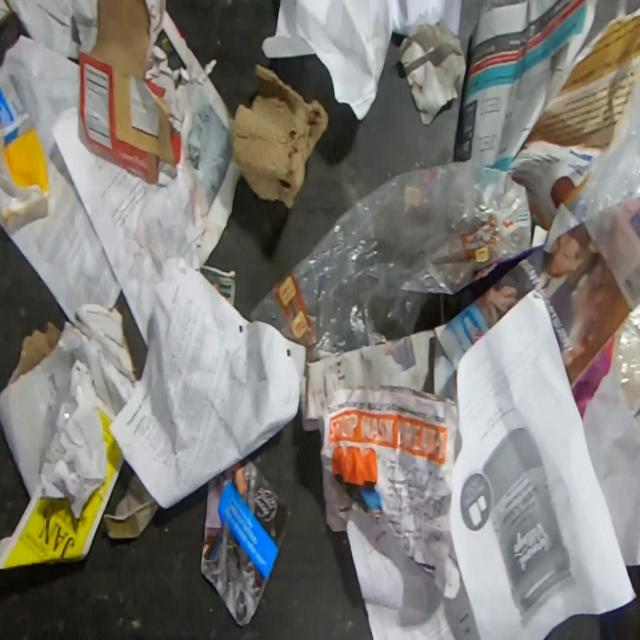cardboard: (0, 316, 117, 499), (78, 0, 182, 186), (231, 63, 329, 208), (70, 300, 139, 416), (102, 469, 160, 541)
soft_plastic: (249, 160, 532, 355), (572, 63, 640, 222), (0, 70, 52, 229), (613, 292, 639, 424)
